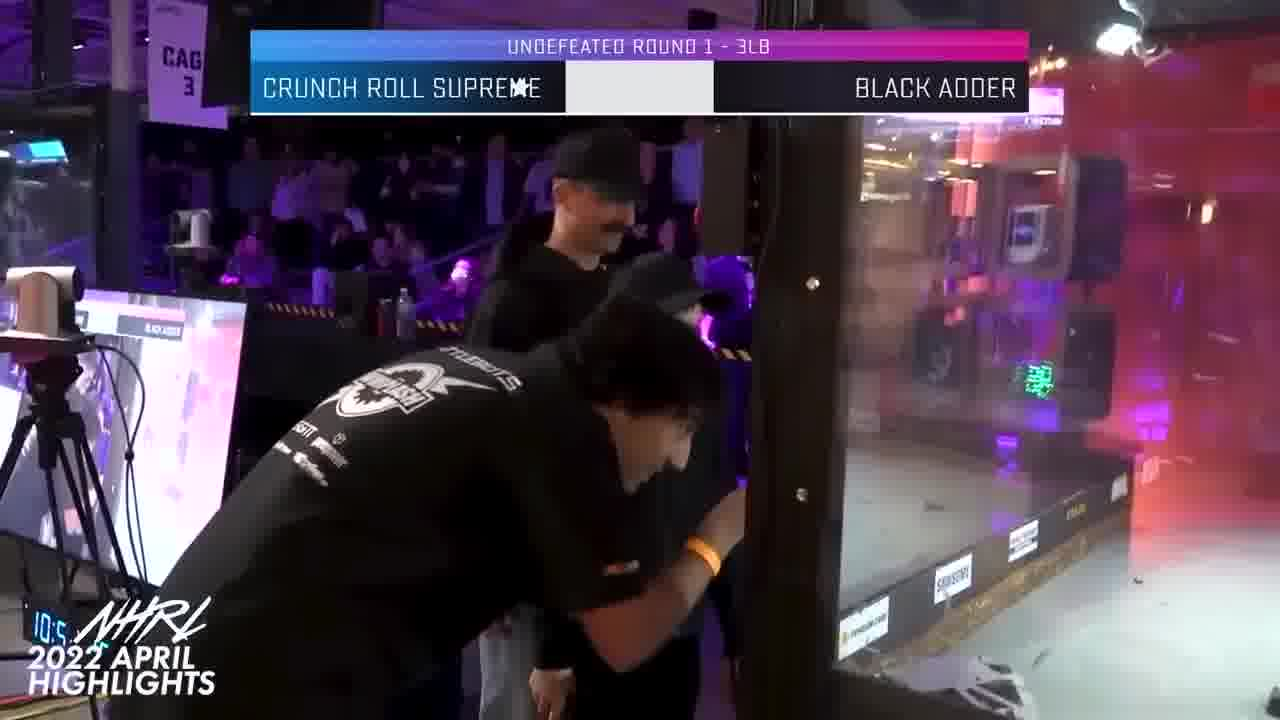combatbot: (856, 645, 1061, 720)
